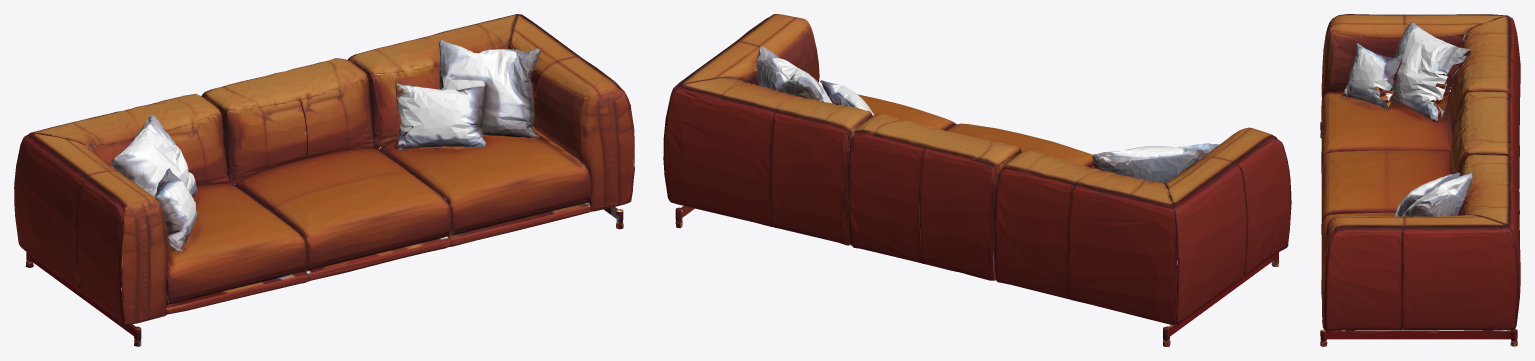
File: edited_mesh.glb
3 views of the same model, side by side, from view 1: azimuth 30°, elevation 25°; view 2: azimuth 150°, elevation 25°; view 3: azimuth 270°, elevation 25° (orthographic). The views are drawn at different scales.
Parts seen in each view (by area): view 1: solid_001_wire; view 2: solid_001_wire; view 3: solid_001_wire.
Boxes of the visible parts, x1,y1,x2,y2 form: solid_001_wire: [14, 14, 634, 346]; solid_001_wire: [663, 14, 1291, 346]; solid_001_wire: [1320, 14, 1520, 346].
Size of the model in its own units: 2 by 0.5532 by 0.7635.
Materials: 1 (1 with a texture image).
